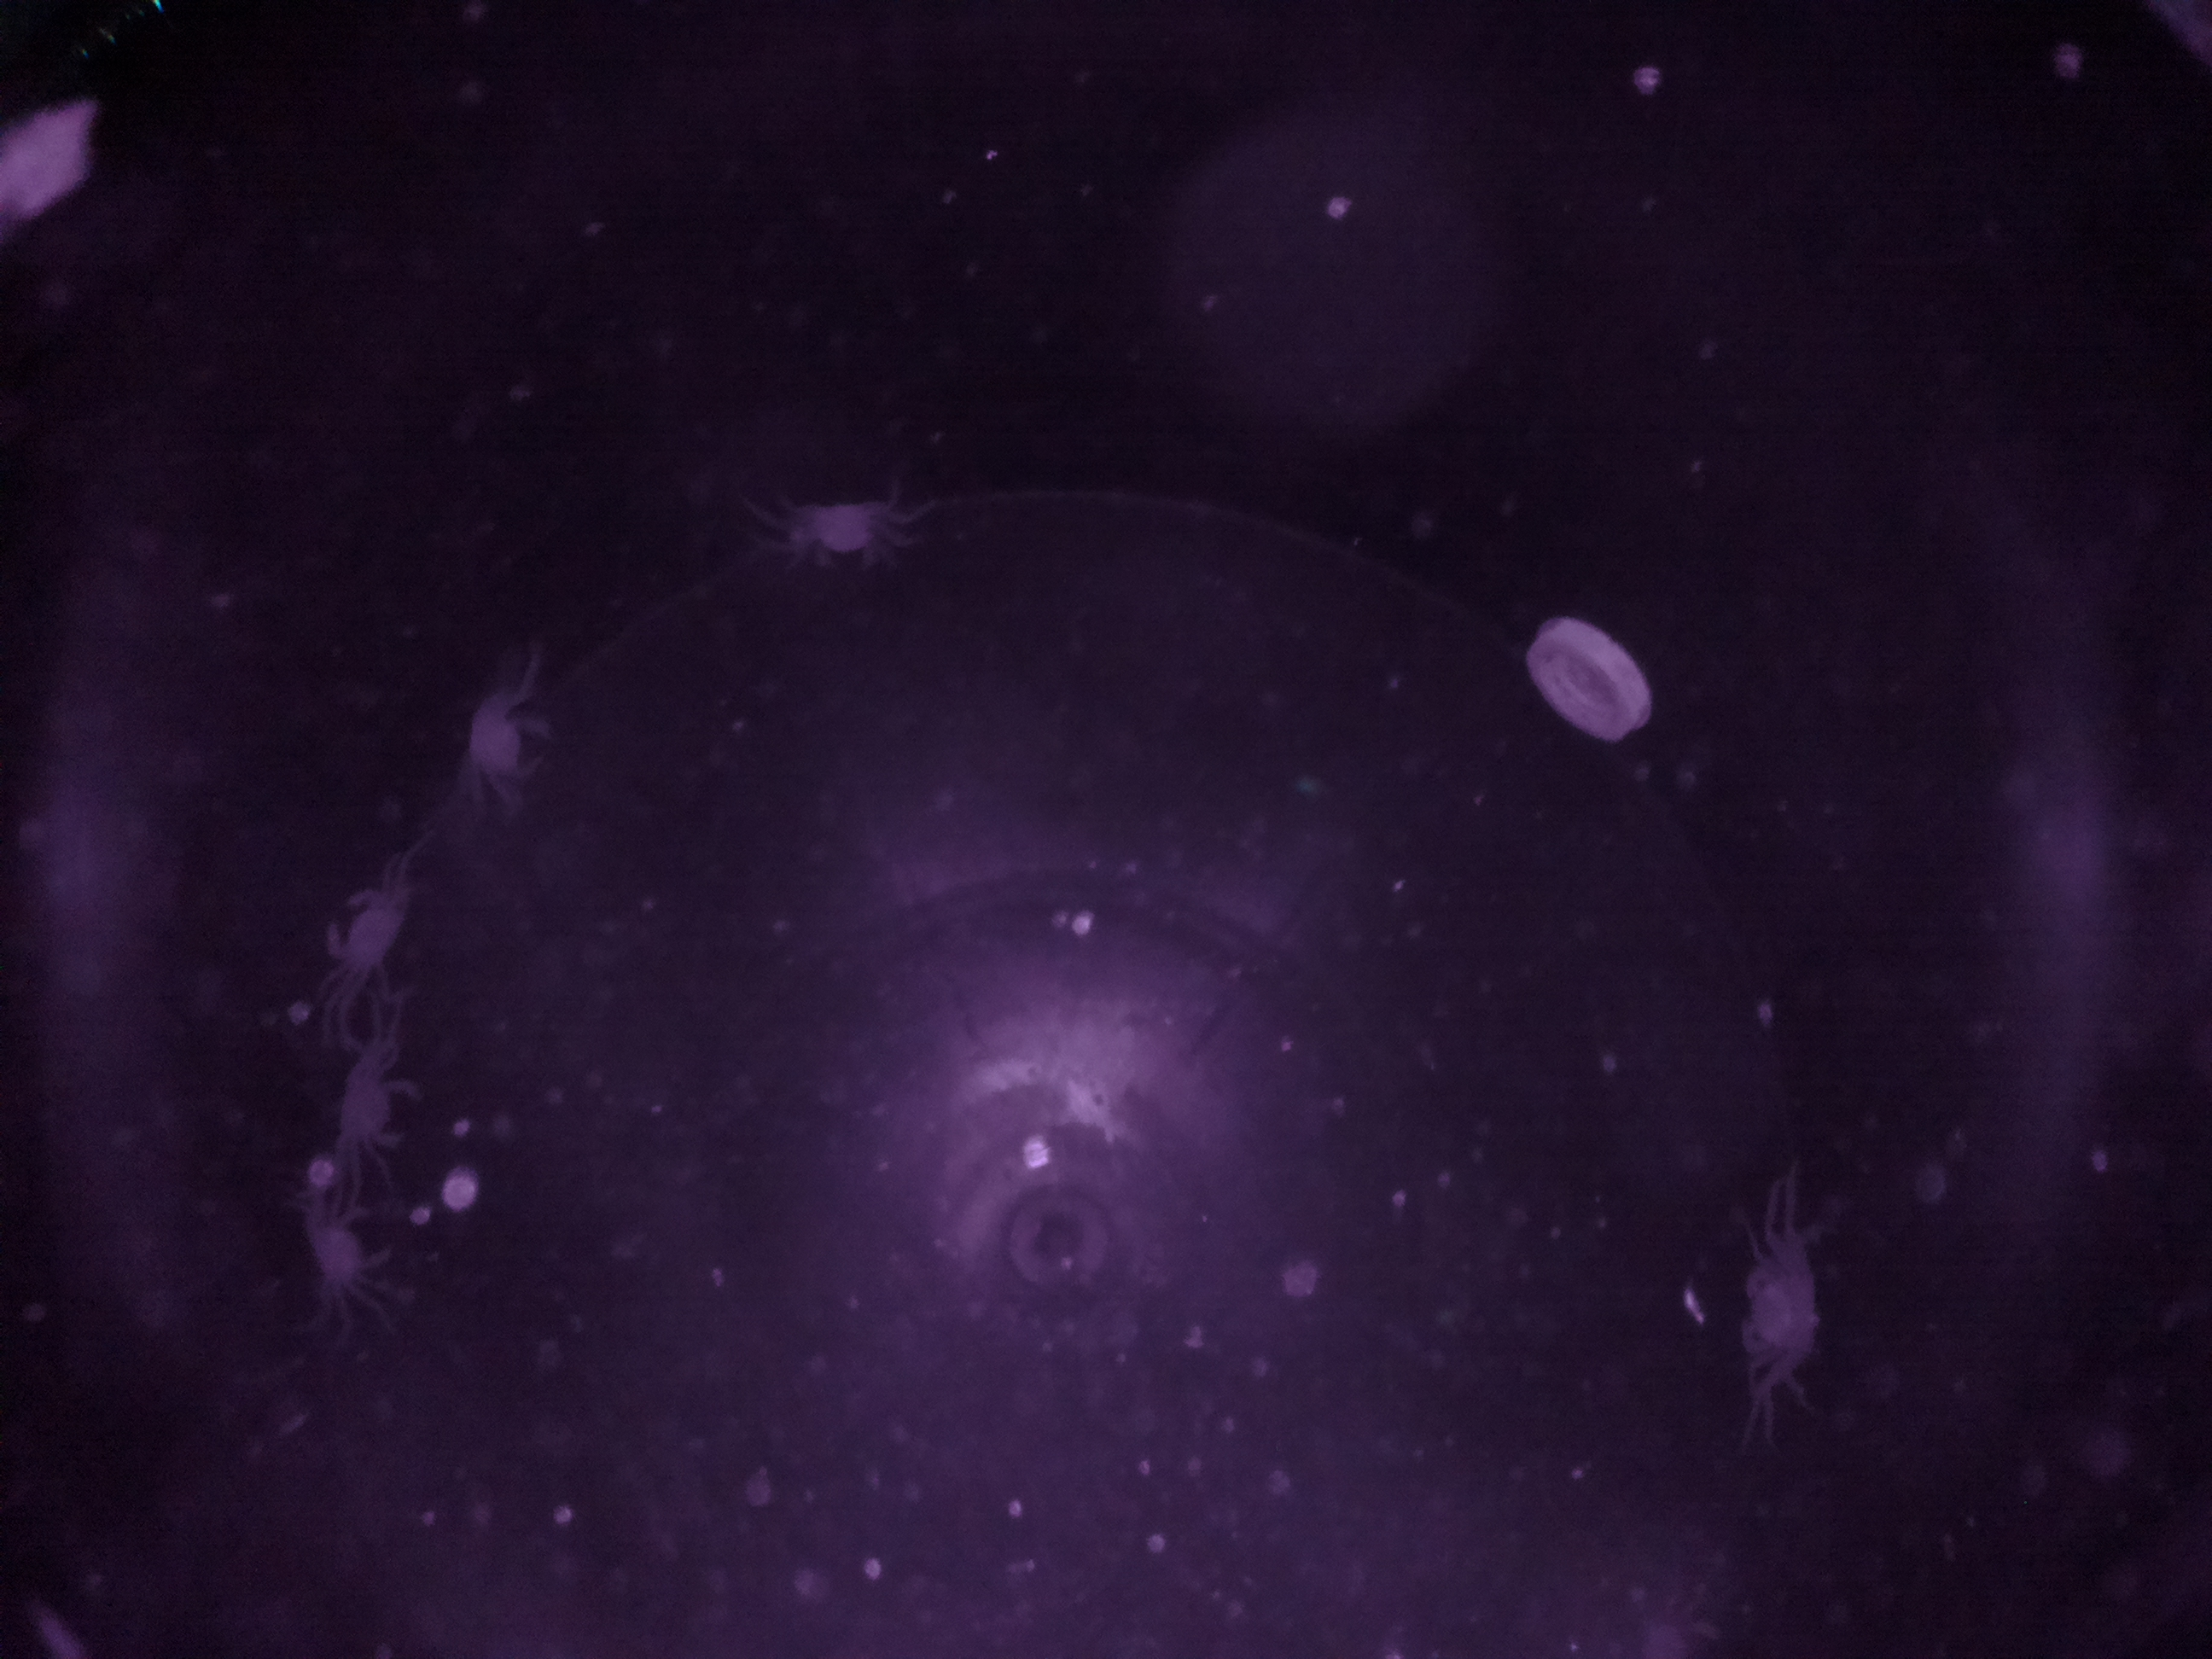Crab: (1724, 1237, 1853, 1384), (453, 678, 577, 819), (324, 1035, 427, 1188), (289, 1192, 401, 1317), (786, 477, 904, 592), (320, 873, 427, 999)
